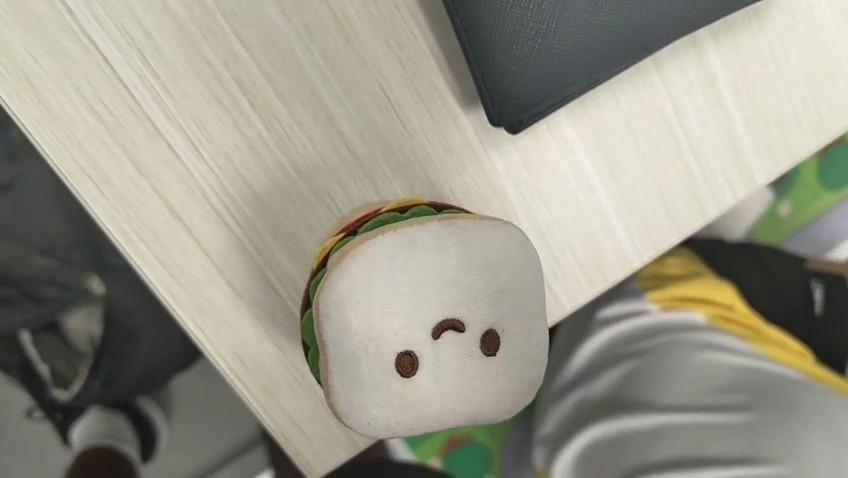objects: (300, 197, 549, 440)
